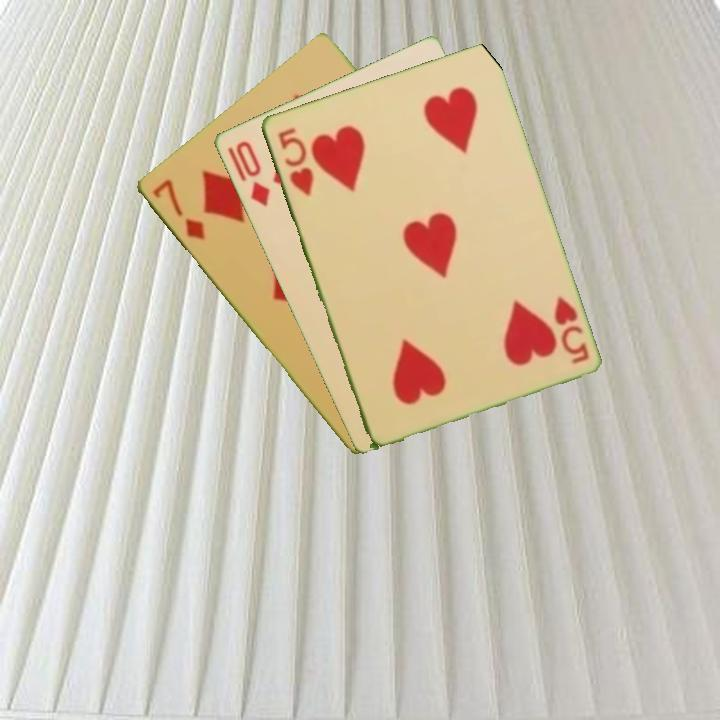10d: (231, 137, 272, 210)
5h: (274, 124, 316, 199), (550, 293, 591, 367)
7d: (148, 175, 208, 243)
